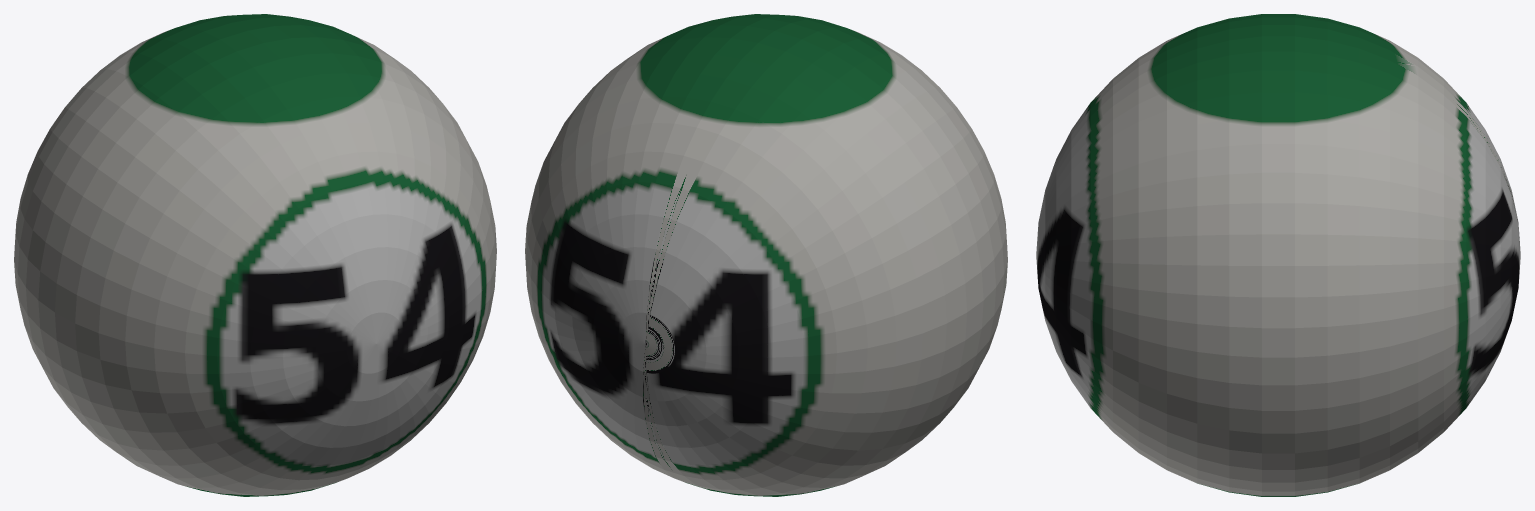
3 views of the same model, side by side, from view 1: azimuth 30°, elevation 25°; view 2: azimuth 150°, elevation 25°; view 3: azimuth 270°, elevation 25° (orthographic).
Visible parts, largest first — view 1: geometry_0; view 2: geometry_0; view 3: geometry_0.
Part boxes in pixels (bbox=[...]): geometry_0: bbox=[14, 14, 496, 496]; geometry_0: bbox=[525, 14, 1007, 496]; geometry_0: bbox=[1036, 14, 1520, 496].
Size of the model in its own units: 0.0599 by 0.0599 by 0.06.
Materials: 1 (1 with a texture image).
